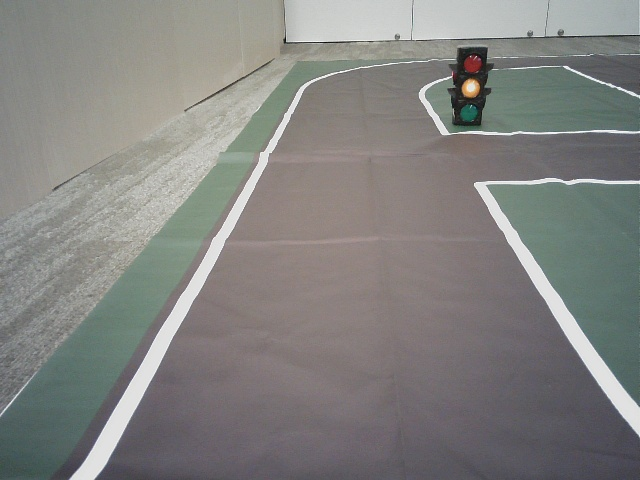yellow: (457, 50, 481, 125)
